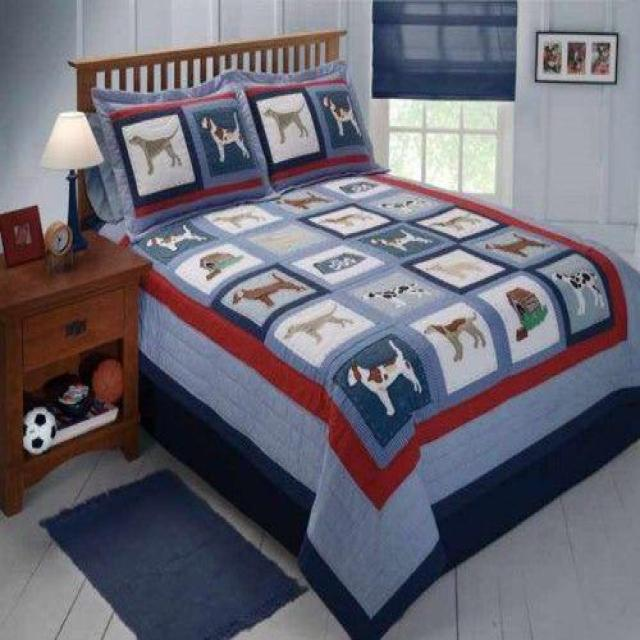bed: (65, 26, 639, 638)
